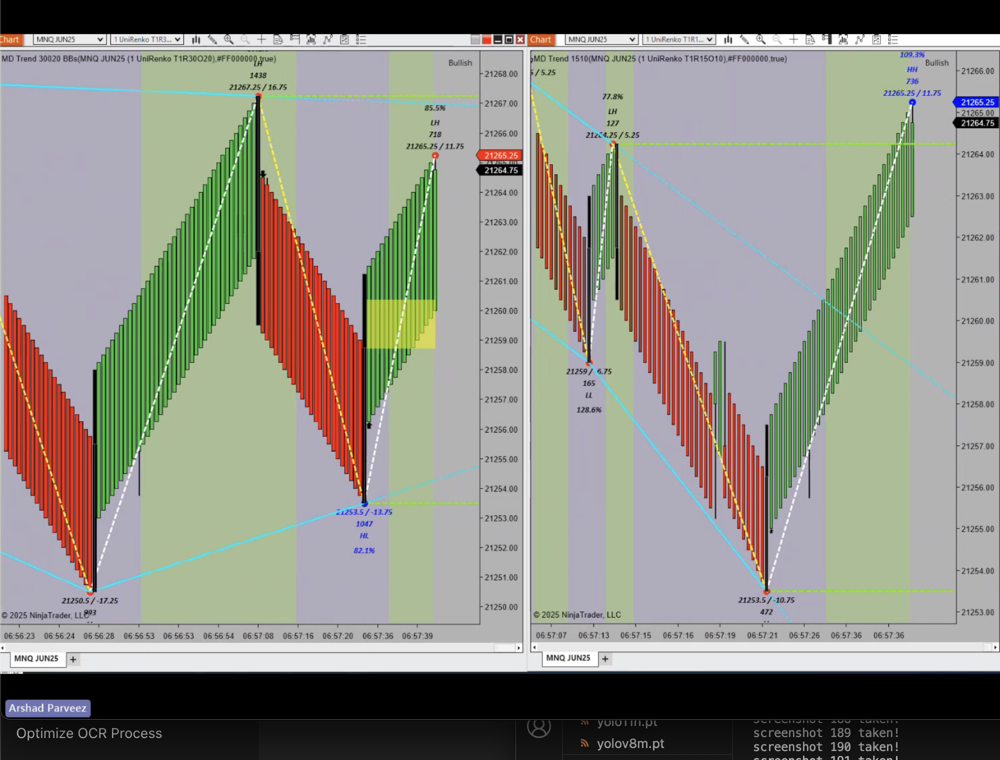HH: (901, 60, 928, 80)
HL: (353, 530, 377, 544)
LH: (604, 105, 628, 123), (423, 115, 447, 131), (247, 57, 269, 72)
LL: (580, 385, 600, 405)
